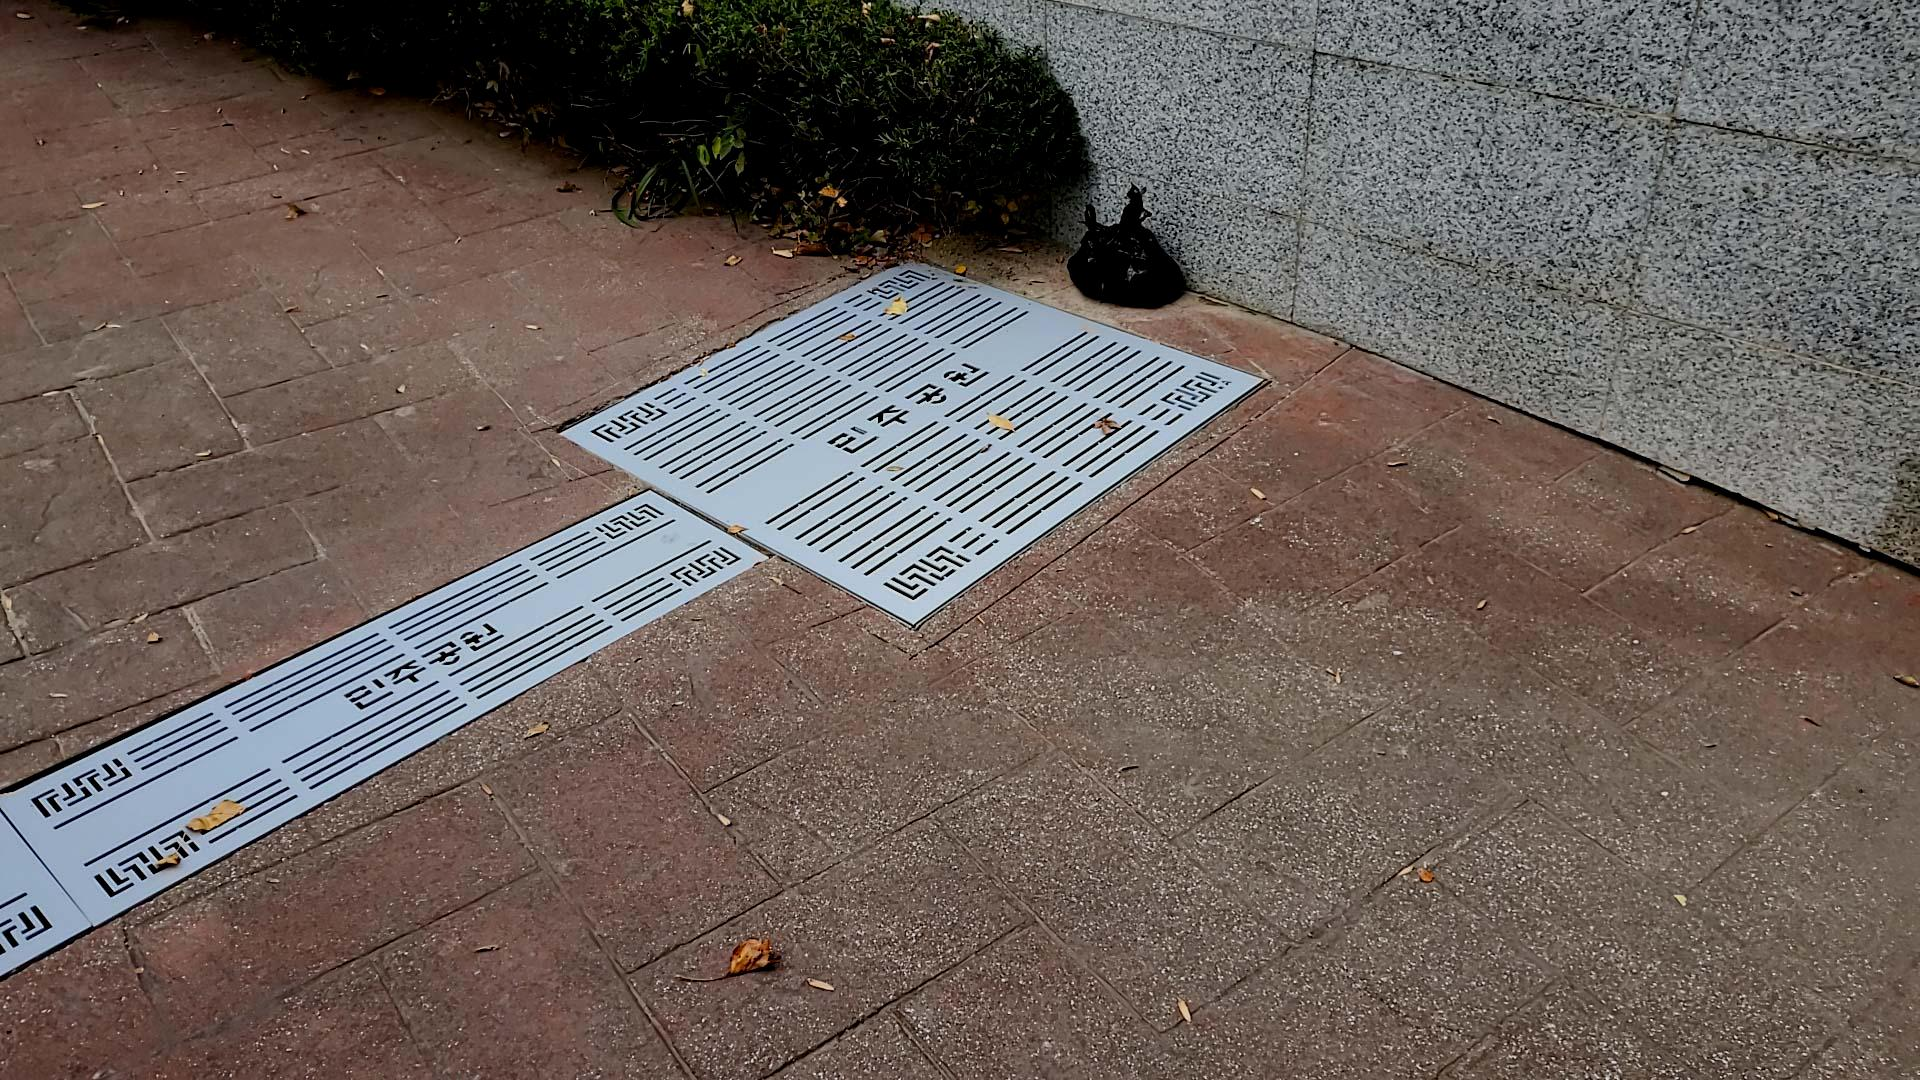black_bag: (1058, 177, 1197, 314)
